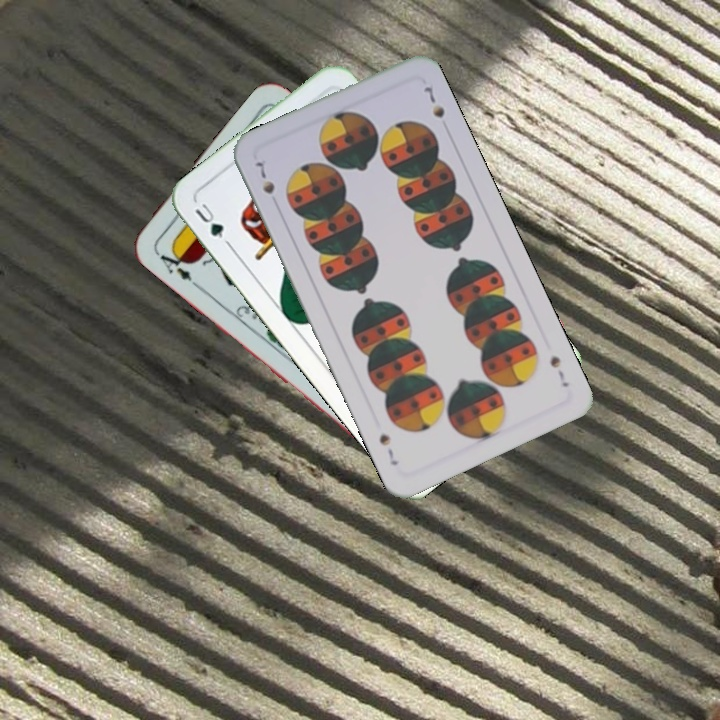EA: (151, 244, 195, 284)
GU: (190, 199, 233, 248)
S7: (251, 157, 278, 197), (546, 350, 572, 390)
